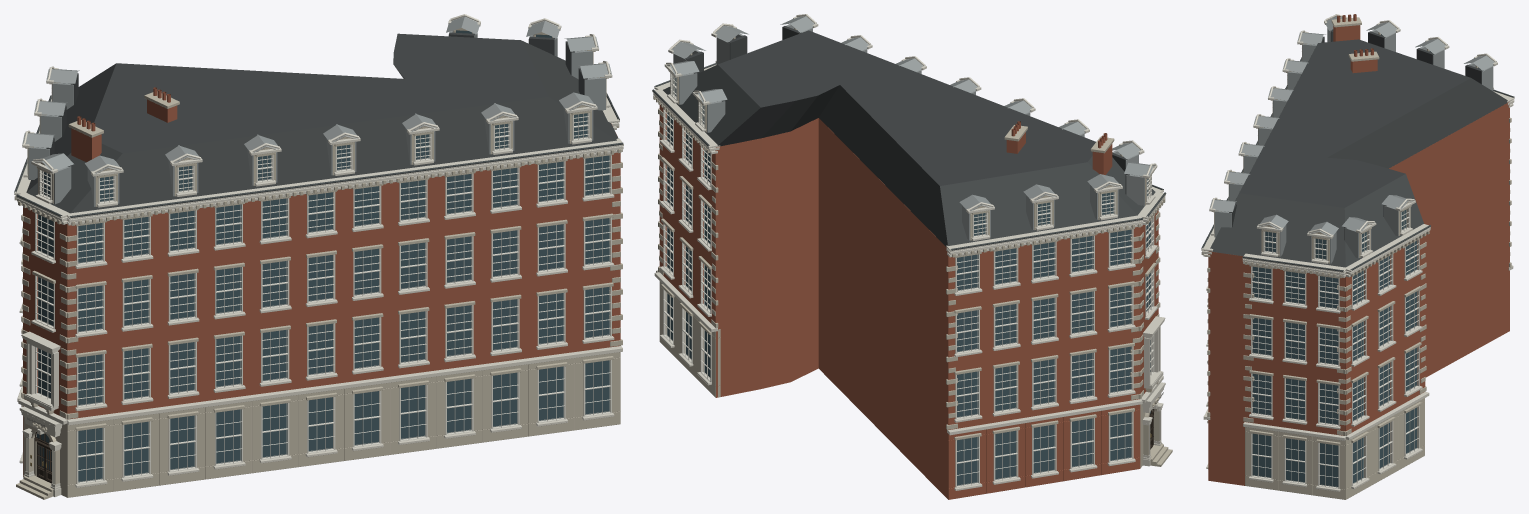
File: cow-exterior-3371e89de71c.glb
3 views of the same model, side by side, from view 1: azimuth 30°, elevation 25°; view 2: azimuth 150°, elevation 25°; view 3: azimuth 270°, elevation 25° (orthographic). The views are drawn at different scales.
Visible parts, largest first — view 1: COW.001; view 2: COW.001; view 3: COW.001.
Boxes of the visible parts, x1,y1,x2,y2 form: COW.001: [14, 14, 623, 499]; COW.001: [652, 14, 1172, 499]; COW.001: [1201, 14, 1514, 499].
Size of the model in its own units: 38.37 by 22.48 by 22.3.
